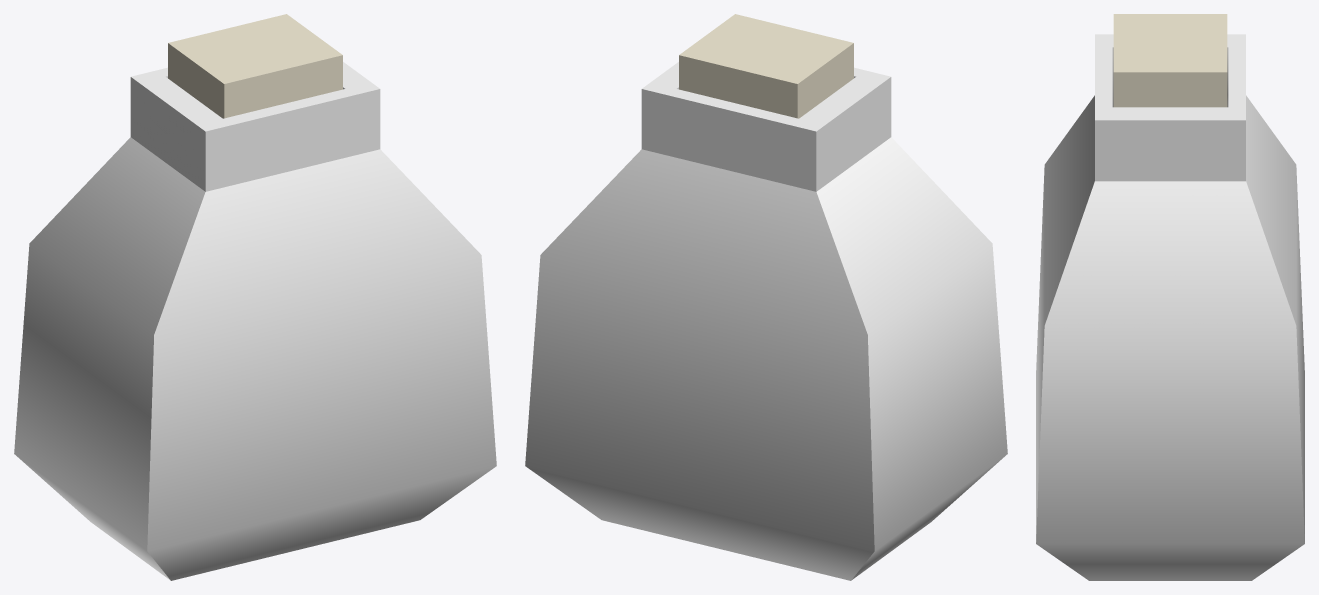
The model's file is Vial_7.fbx.
3 views of the same model, side by side, from view 1: azimuth 30°, elevation 25°; view 2: azimuth 150°, elevation 25°; view 3: azimuth 270°, elevation 25° (orthographic).
Visible parts, largest first — view 1: ManaElixir; view 2: ManaElixir; view 3: ManaElixir.
Part boxes in pixels (left/top/right/bottom): ManaElixir: left=14, top=14, right=496, bottom=580; ManaElixir: left=525, top=14, right=1007, bottom=580; ManaElixir: left=1036, top=14, right=1304, bottom=580.
Bounding box in the file's own units: 12.12 × 15.64 × 8.
